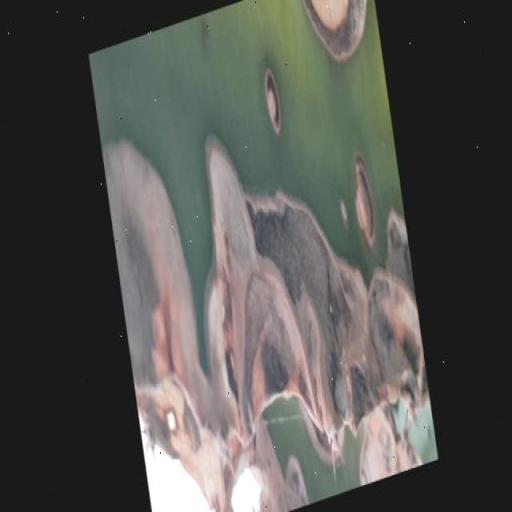stemcanker: (337, 196, 352, 229)
